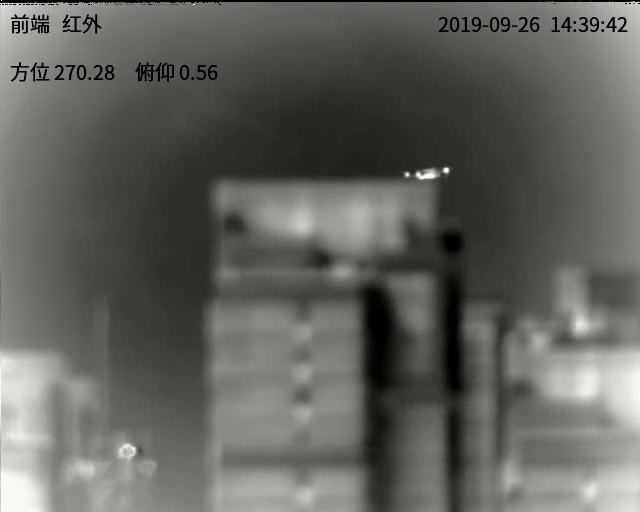DRONE: (402, 165, 452, 182)
